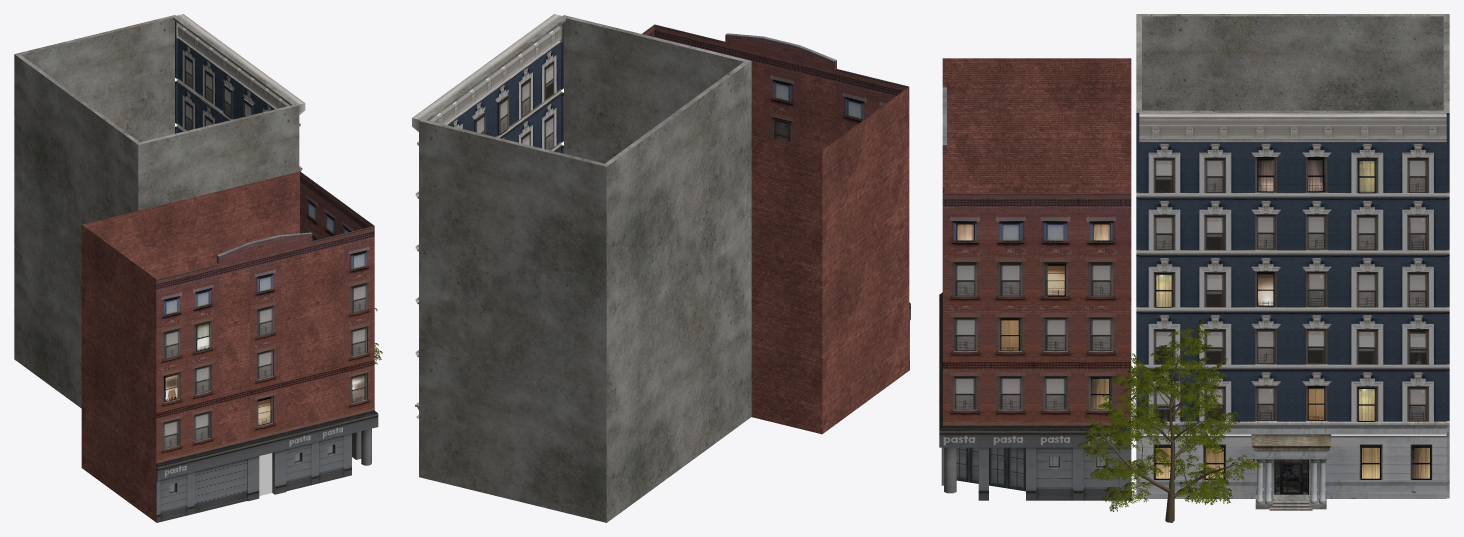
Rendered from city3_01.gltf.
The picture shows the model from 3 angles, left to right: view 1: azimuth 30°, elevation 25°; view 2: azimuth 150°, elevation 25°; view 3: azimuth 270°, elevation 25°; orthographic projection. The views are drawn at different scales.
Visible parts, largest first — view 1: city3_01; view 2: city3_01; view 3: city3_01.
Part boxes in pixels (<box>): city3_01: <box>14,14,382,522</box>; city3_01: <box>412,14,910,522</box>; city3_01: <box>939,14,1449,522</box>.
Bounding box in the file's own units: 36.73 × 36.02 × 42.87.
10 materials, 9 textured.
